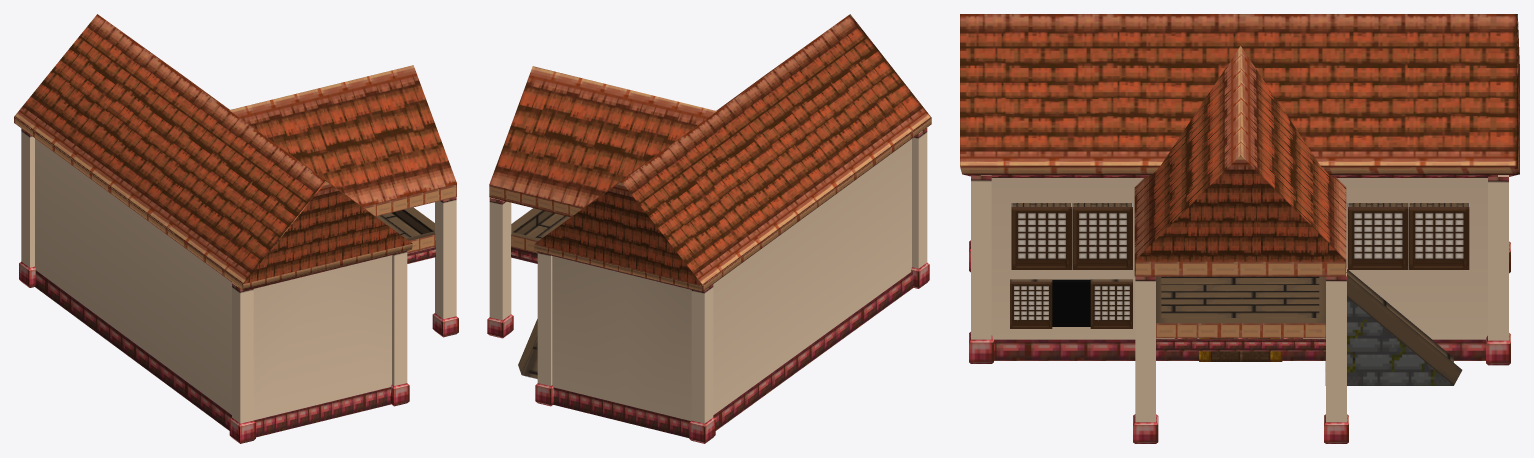
File: house_2.fbx
3 views of the same model, side by side, from view 1: azimuth 30°, elevation 25°; view 2: azimuth 150°, elevation 25°; view 3: azimuth 270°, elevation 25° (orthographic). The views are drawn at different scales.
Visible parts, largest first — view 1: polySurface17; view 2: polySurface17; view 3: polySurface17.
Boxes of the visible parts, left/top/right/bottom form: polySurface17: left=14, top=14, right=458, bottom=443; polySurface17: left=487, top=14, right=931, bottom=443; polySurface17: left=960, top=14, right=1519, bottom=443.
Size of the model in its own units: 17.08 by 14.51 by 23.75.
